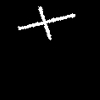single_crochet: (18, 7, 74, 39)
